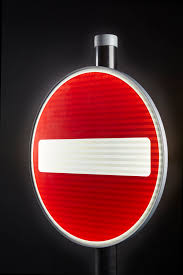No entry: (30, 68, 164, 248)
